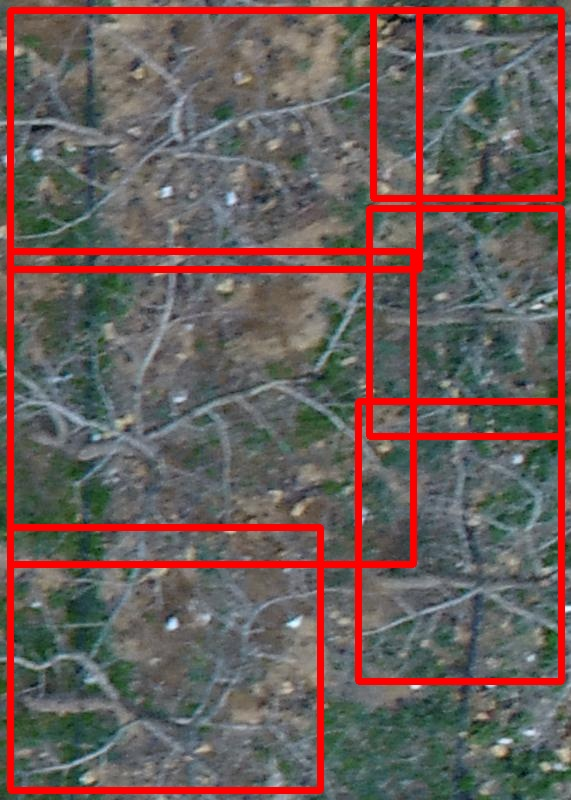apple: (10, 251, 413, 564), (10, 10, 419, 269), (10, 527, 320, 790), (358, 401, 561, 681), (369, 208, 561, 436), (373, 10, 561, 198)
